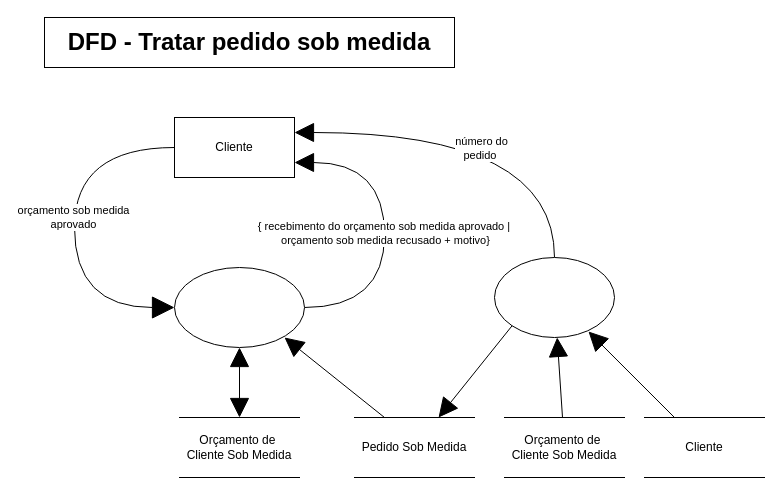
Some shapes in this 782 by 495 pixel diagram are drawn without their labels. The centre of each missing label's shape, as x and y in pixels:
"Gerar Pedido Sob Medida" goes at point 554,297.
"Receber Orçamento Sob Medida aprovado" goes at point 239,307.
